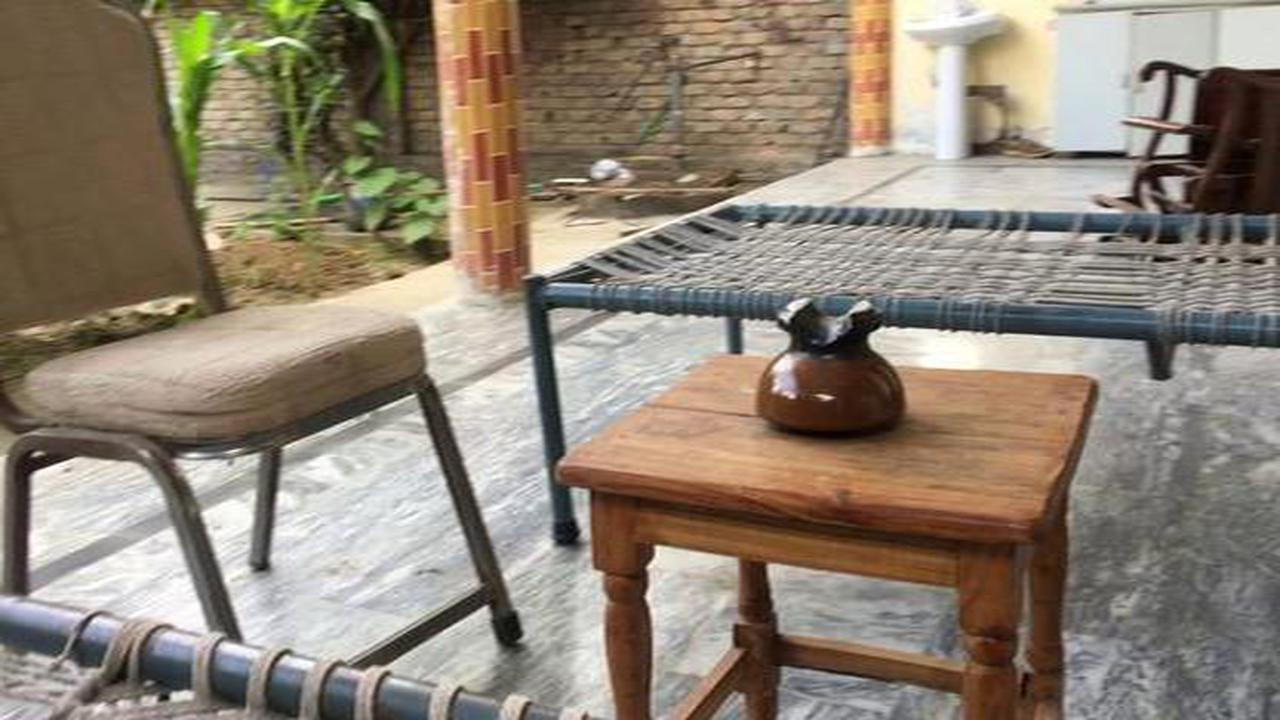insulator_pin: (742, 277, 942, 442)
